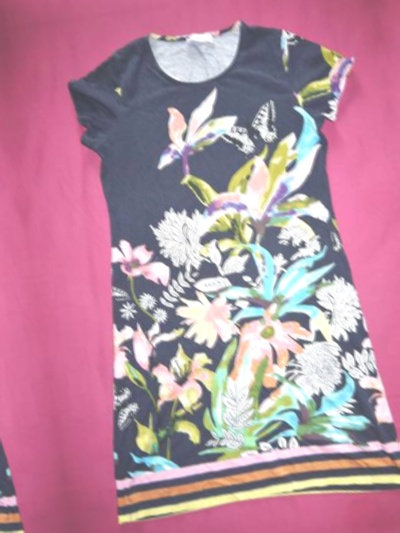Dress: (32, 0, 400, 533), (0, 51, 41, 533), (0, 0, 347, 10), (393, 0, 400, 486)
